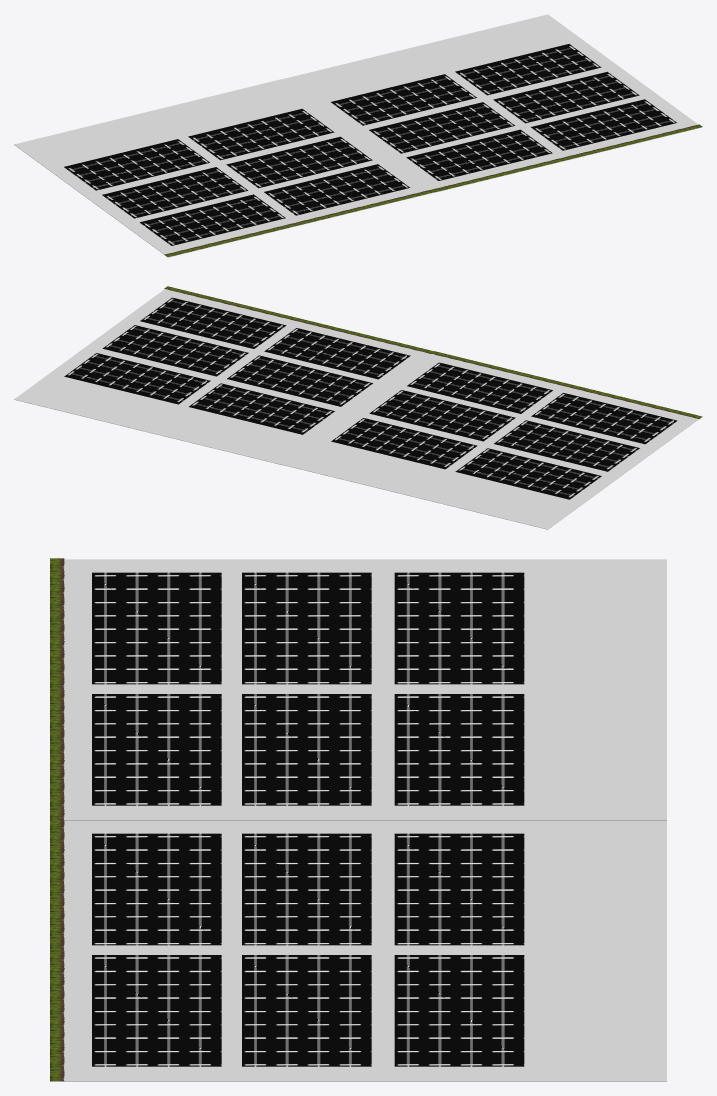
Rendered from Lot.fbx.
3 renders of one model, top to bottom at view 1: azimuth 30°, elevation 25°; view 2: azimuth 150°, elevation 25°; view 3: azimuth 270°, elevation 25°, orthographic. The views are drawn at different scales.
Parts seen in each view (by area): view 1: Cube, Cube.001, Plane.002, Plane.003, Plane.005, Plane.008, Plane.010, Plane, Plane.011, Plane.012, Plane.001, Plane.004 (+4 smaller); view 2: Cube, Cube.001, Plane.005, Plane.013, Plane.001, Plane.004, Plane.008, Plane.009, Plane.012, Plane, Plane.010, Plane.002 (+4 smaller); view 3: Cube.001, Cube, Plane.005, Plane.008, Plane, Plane.001, Plane.012, Plane.013, Plane.004, Plane.009, Plane.002, Plane.003 (+4 smaller).
Boxes of the visible parts, box(x1,y1,x2,y2) form: Cube: box(14, 79, 434, 257); Cube.001: box(281, 14, 701, 192); Plane.002: box(226, 136, 372, 188); Plane.003: box(264, 164, 409, 215); Plane.005: box(64, 139, 209, 190); Plane.008: box(331, 74, 476, 125); Plane.010: box(531, 99, 676, 150); Plane: box(140, 194, 285, 245); Plane.011: box(493, 71, 639, 123); Plane.012: box(369, 102, 514, 153); Plane.001: box(102, 167, 247, 218); Plane.004: box(188, 108, 334, 160); Cube: box(281, 354, 698, 529); Cube.001: box(14, 289, 430, 464); Plane.005: box(455, 448, 601, 499); Plane.013: box(264, 328, 410, 379); Plane.001: box(494, 420, 639, 471); Plane.004: box(331, 418, 477, 469); Plane.008: box(189, 383, 334, 434); Plane.009: box(64, 353, 210, 404); Plane.012: box(227, 355, 372, 406); Plane: box(531, 393, 677, 444); Plane.010: box(140, 297, 286, 348); Plane.002: box(369, 390, 515, 441); Cube.001: box(50, 820, 666, 1081); Cube: box(63, 559, 666, 820); Plane.005: box(394, 572, 524, 684); Plane.008: box(394, 833, 524, 945); Plane: box(92, 572, 221, 684); Plane.001: box(242, 572, 371, 684); Plane.012: box(242, 833, 371, 945); Plane.013: box(92, 833, 221, 945); Plane.004: box(394, 694, 524, 805); Plane.009: box(394, 955, 524, 1066); Plane.002: box(242, 694, 371, 805); Plane.003: box(92, 694, 221, 805).
Size of the model in its own units: 17058 by 21.64 by 8511.
